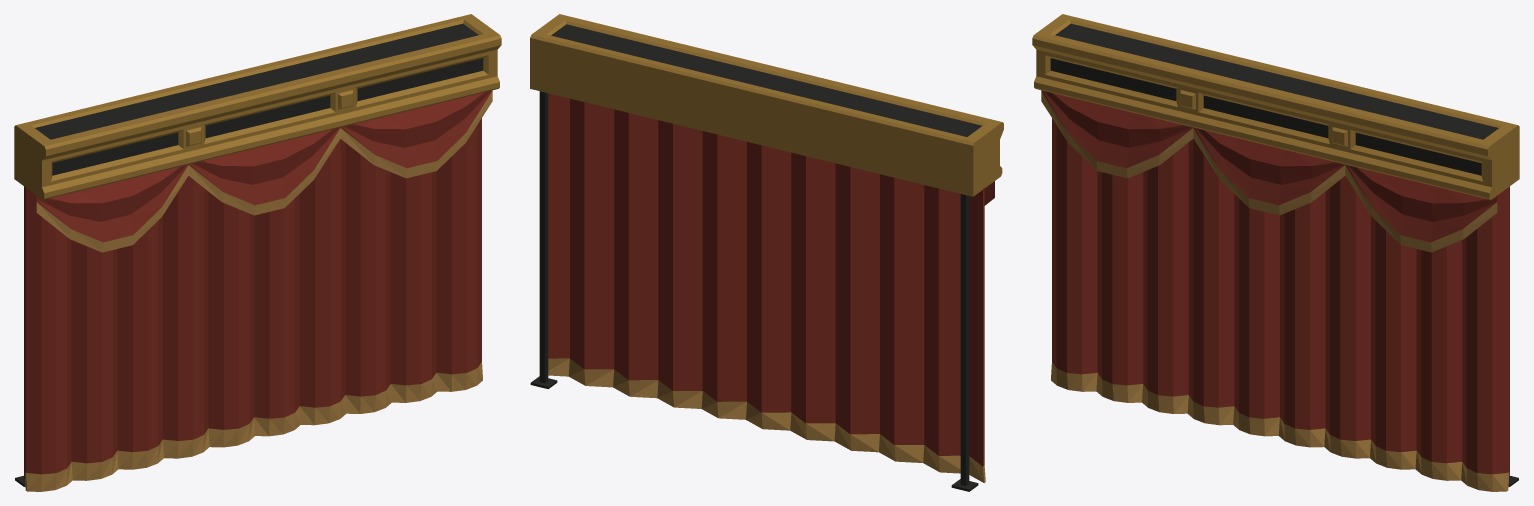
The model's file is proscenium-curtain-bay-4fac1f.glb.
The picture shows the model from 3 angles, left to right: view 1: azimuth 30°, elevation 25°; view 2: azimuth 150°, elevation 25°; view 3: azimuth 330°, elevation 25°; orthographic projection. The views are drawn at different scales.
Visible parts, largest first — view 1: curtain-bay; view 2: curtain-bay; view 3: curtain-bay.
Part boxes in pixels (x1,y1,x2,y2): curtain-bay: (14, 14, 501, 491); curtain-bay: (530, 14, 1003, 491); curtain-bay: (1032, 14, 1519, 491).
Size of the model in its own units: 4 by 3 by 0.505.
